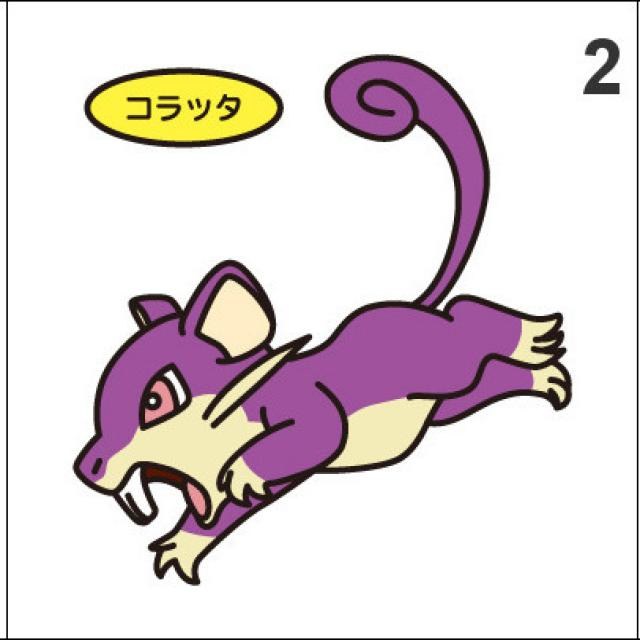Rattata: (60, 258, 561, 560)
